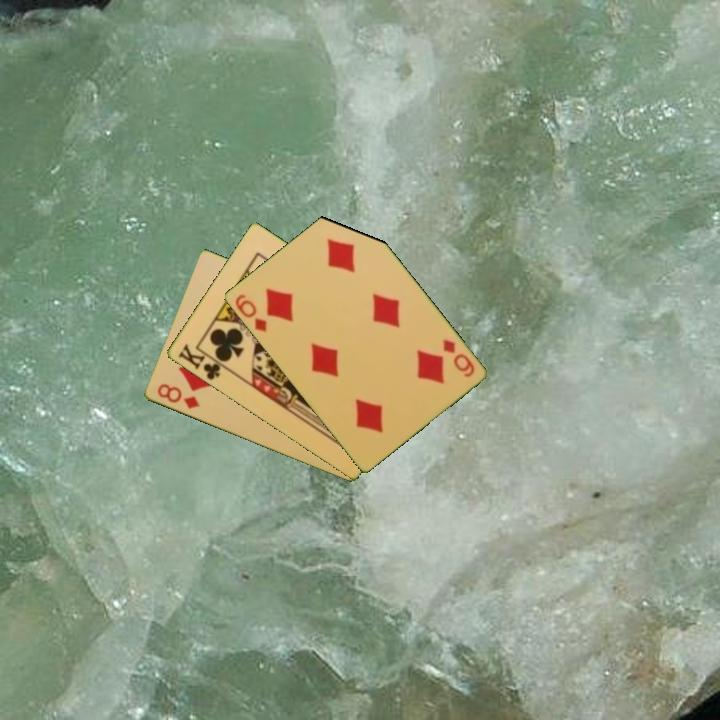6d: (231, 290, 269, 335), (439, 336, 477, 380)
8d: (153, 380, 202, 412)
Kc: (174, 340, 229, 383)
